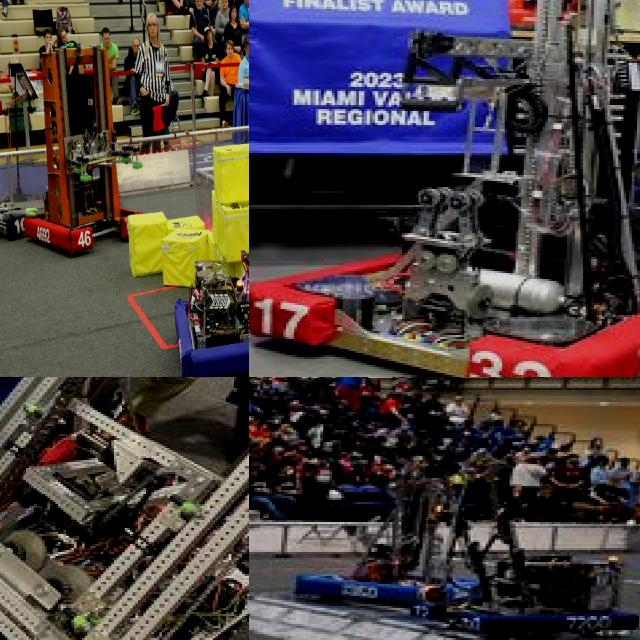FRC-Robots: (249, 0, 640, 377), (0, 377, 249, 640), (0, 34, 128, 262), (475, 486, 640, 640), (163, 111, 249, 377), (336, 454, 458, 612)
